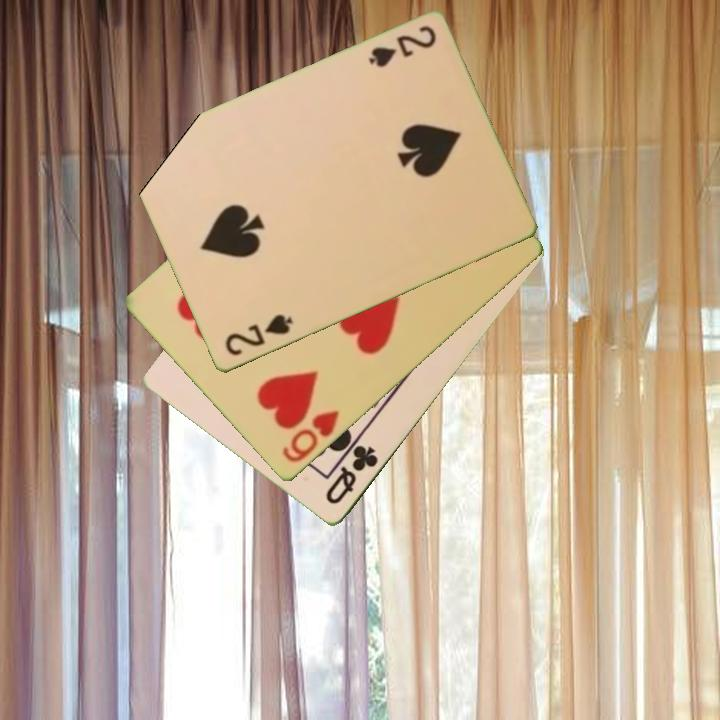2s: (221, 310, 296, 359), (364, 22, 439, 71)
6h: (278, 407, 342, 466)
Qc: (322, 442, 382, 508)
